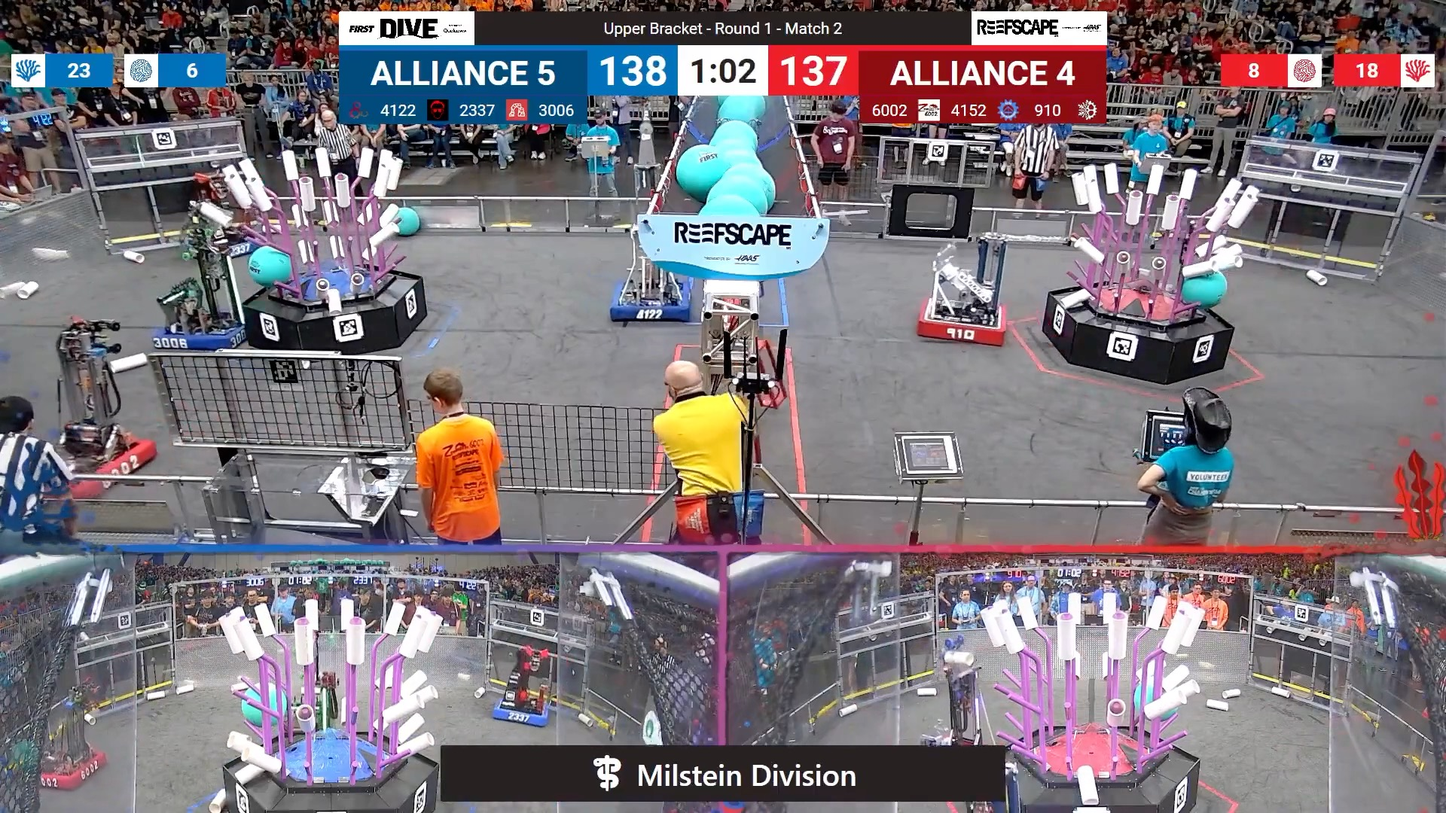bumpers: (38, 426, 161, 495), (911, 292, 1020, 352), (605, 273, 699, 328), (30, 739, 112, 795), (151, 307, 249, 353), (487, 692, 559, 730)
